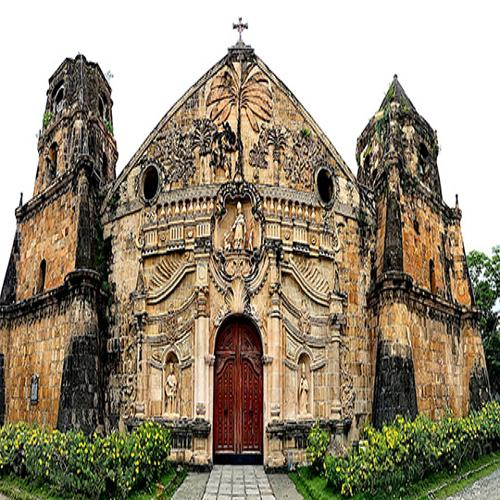Miagao Church: (12, 10, 496, 461)
